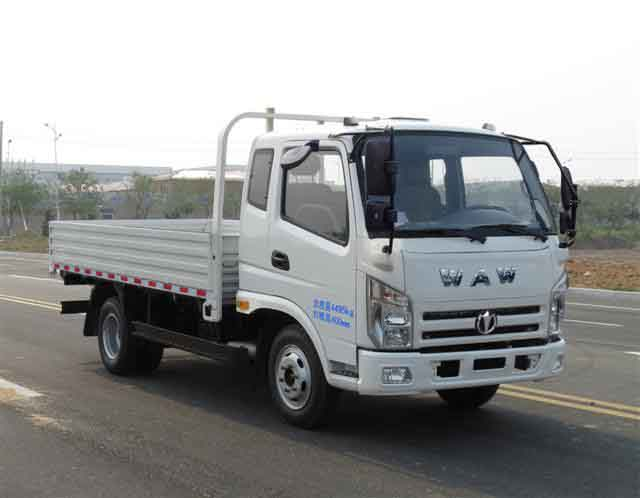smalltruck: (34, 104, 573, 416)
